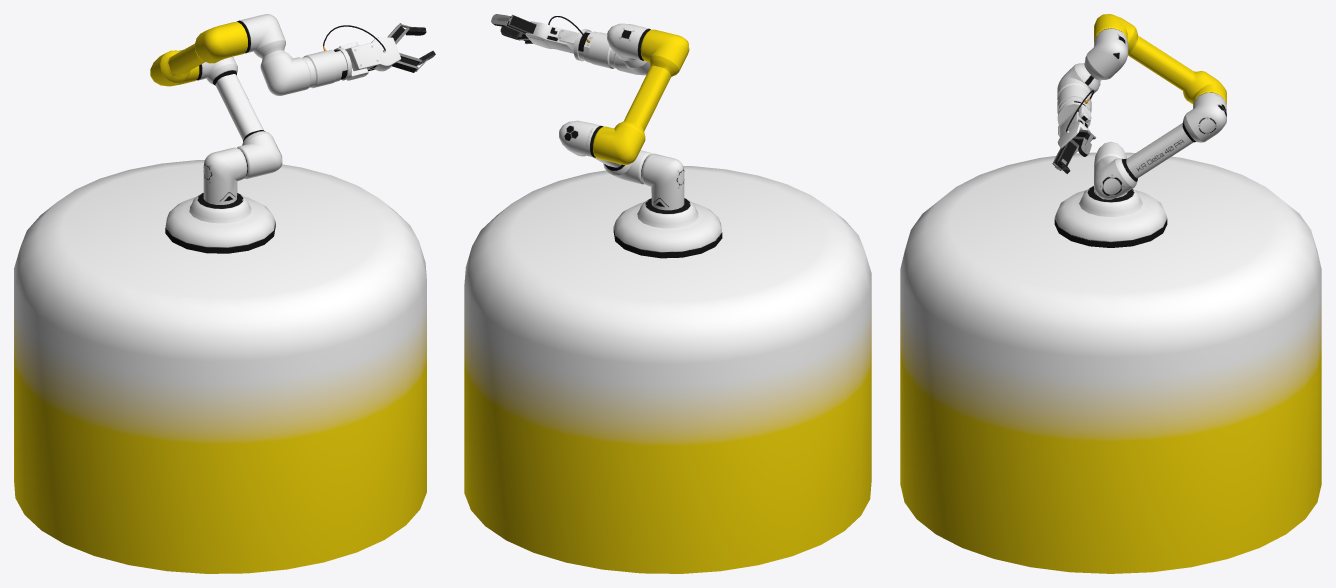
The picture shows the model from 3 angles, left to right: view 1: azimuth 30°, elevation 25°; view 2: azimuth 150°, elevation 25°; view 3: azimuth 270°, elevation 25°; orthographic projection. The views are drawn at different scales.
Visible parts, largest first — view 1: Stand.003_low, Robotic_hand.003_low, Robotic_hand.004_low, Robotic_hand.005_low, Robotic_hand.007_low, Robotic_hand.006_low, Robotic_hand.011_low; view 2: Stand.003_low, Robotic_hand.003_low, Robotic_hand.005_low, Robotic_hand.004_low, Robotic_hand.007_low, Robotic_hand.006_low, Robotic_hand.011_low; view 3: Stand.003_low, Robotic_hand.003_low, Robotic_hand.004_low, Robotic_hand.005_low, Robotic_hand.006_low, Robotic_hand.007_low, Robotic_hand.011_low.
Part boxes in pixels (x1,y1,x2,y2): Stand.003_low: (14, 160, 426, 573); Robotic_hand.003_low: (165, 147, 275, 253); Robotic_hand.004_low: (196, 56, 282, 178); Robotic_hand.005_low: (150, 22, 247, 86); Robotic_hand.007_low: (260, 47, 351, 95); Robotic_hand.006_low: (236, 14, 285, 58); Robotic_hand.011_low: (347, 37, 400, 71); Stand.003_low: (464, 166, 871, 573); Robotic_hand.003_low: (613, 153, 722, 258); Robotic_hand.005_low: (593, 29, 689, 164); Robotic_hand.004_low: (559, 120, 651, 184); Robotic_hand.007_low: (573, 29, 650, 75); Robotic_hand.006_low: (607, 23, 650, 61); Robotic_hand.011_low: (525, 21, 573, 53); Stand.003_low: (900, 152, 1321, 573); Robotic_hand.003_low: (1054, 141, 1167, 247); Robotic_hand.004_low: (1094, 92, 1226, 199); Robotic_hand.005_low: (1094, 14, 1226, 104); Robotic_hand.006_low: (1084, 28, 1128, 80); Robotic_hand.007_low: (1057, 63, 1100, 126); Robotic_hand.011_low: (1057, 111, 1090, 155).
Bounding box in the file's own units: 1.82 × 2.15 × 1.75.
2 materials, 2 textured.
